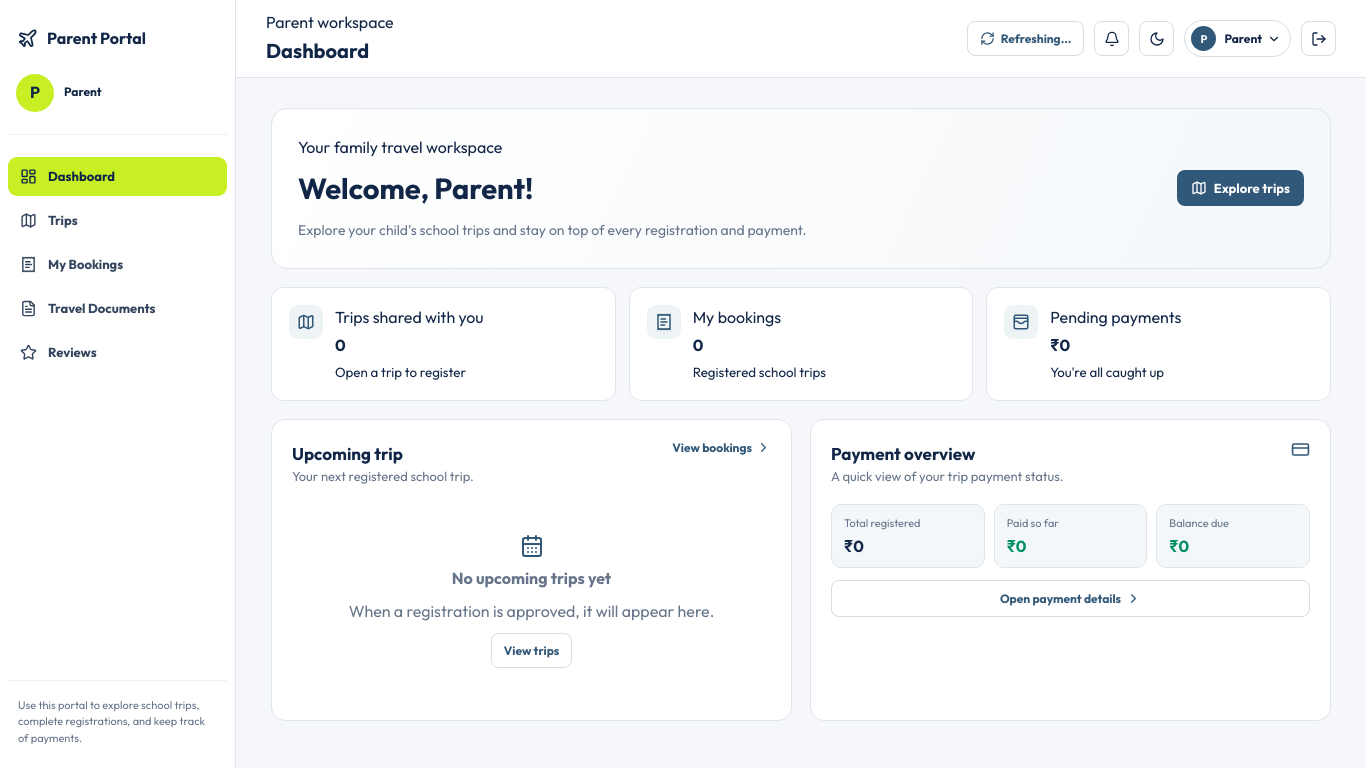
Scenario: TmcParentPortal › shows the parent review option and lists completed trips
Check: the heading "Dashboard" is shown, box [266,38,369,63]
Click the button "Reviews". click: (118, 352)
box: [8,333,227,372]
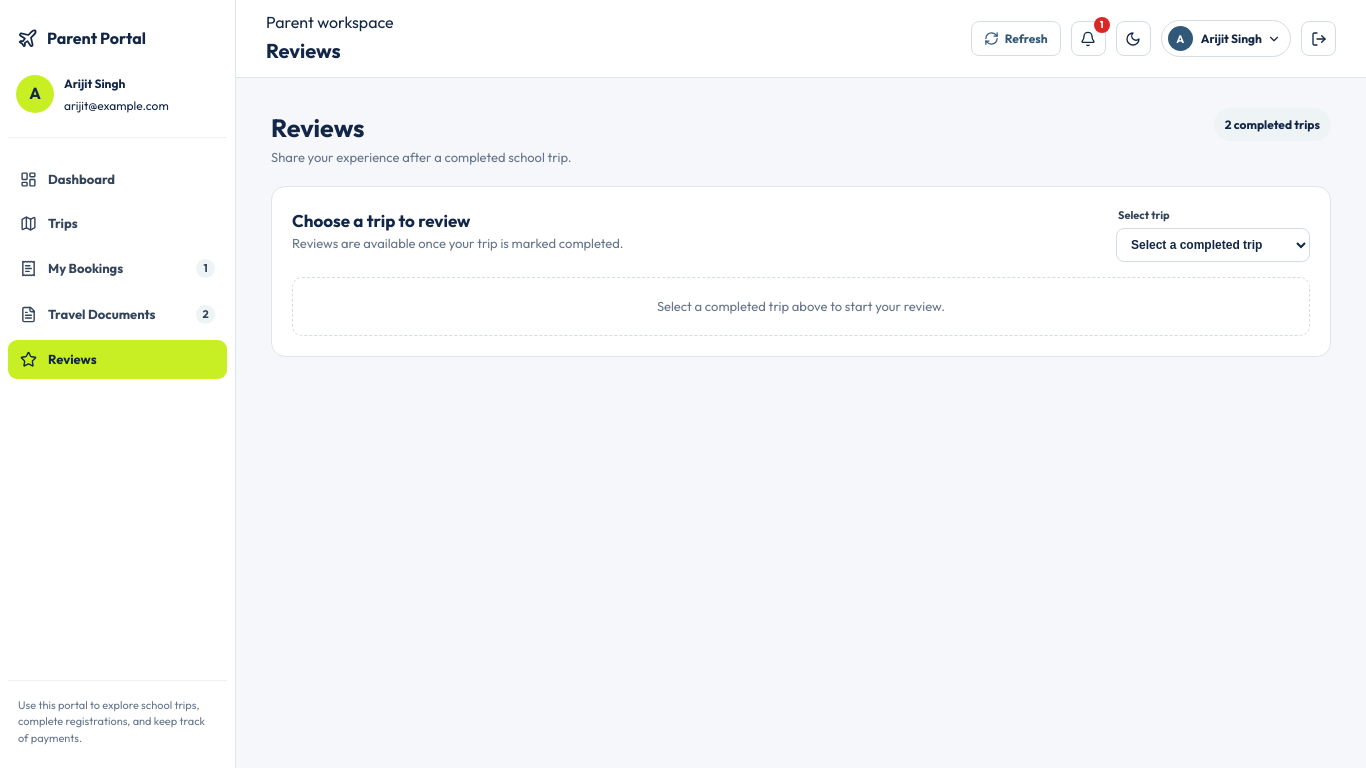
Check: the heading "Reviews" in the row of "completed trips" is shown, box [271,112,364,144]
Check: the dropdown named "Select a trip to review" shows "Select a completed trip", box [1116,228,1310,262]
